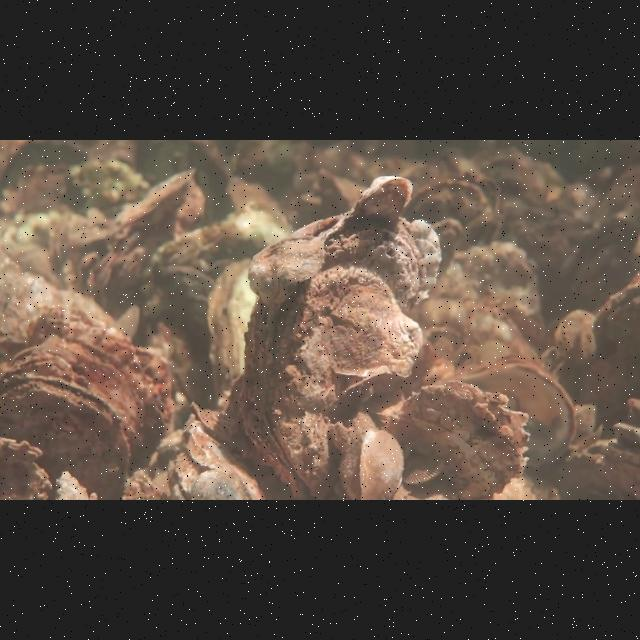Oyster-Closed: (237, 176, 443, 500), (0, 303, 176, 478), (383, 379, 533, 500), (0, 372, 132, 500), (438, 352, 578, 472), (178, 401, 293, 498), (342, 418, 401, 500), (190, 464, 267, 500), (166, 452, 206, 500), (401, 454, 446, 488)
